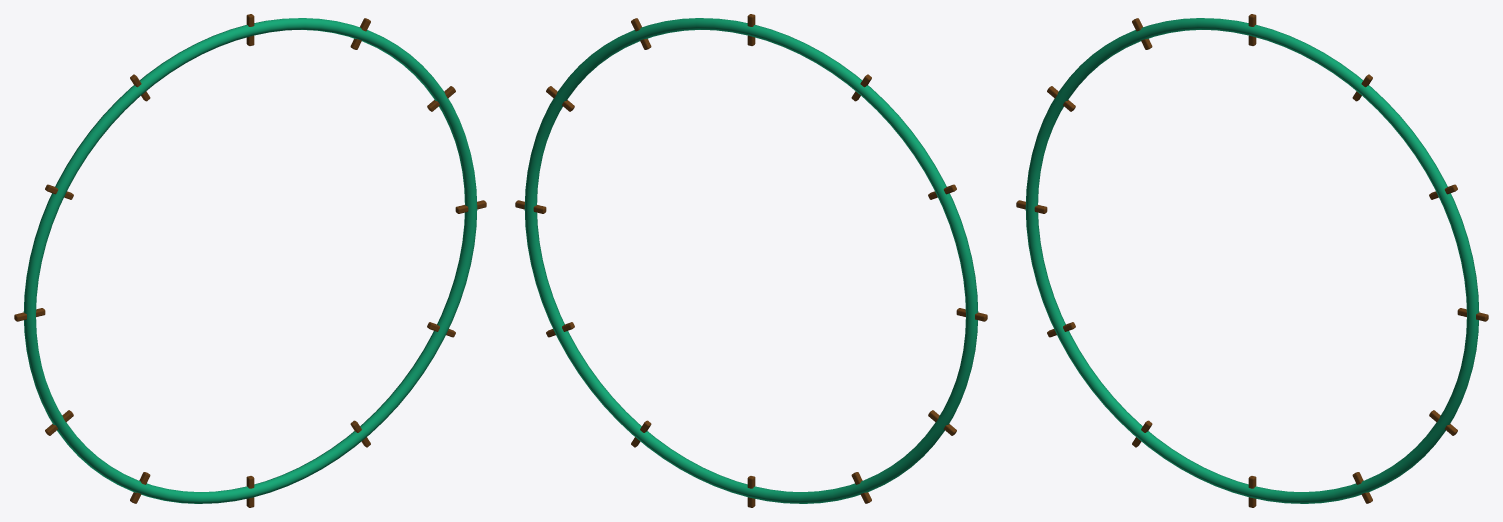
File: SM_JA_SpiritHalo.fbx
3 renders of one model, left to right at view 1: azimuth 30°, elevation 25°; view 2: azimuth 150°, elevation 25°; view 3: azimuth 330°, elevation 25°, orthographic.
Parts seen in each view (by area): view 1: SM_JA_SpiritHalo; view 2: SM_JA_SpiritHalo; view 3: SM_JA_SpiritHalo.
Boxes of the visible parts, bbox=[...] form: SM_JA_SpiritHalo: bbox=[14, 14, 486, 507]; SM_JA_SpiritHalo: bbox=[515, 14, 987, 507]; SM_JA_SpiritHalo: bbox=[1016, 14, 1488, 507].
Size of the model in its own units: 2.13 by 0.05 by 2.13.
